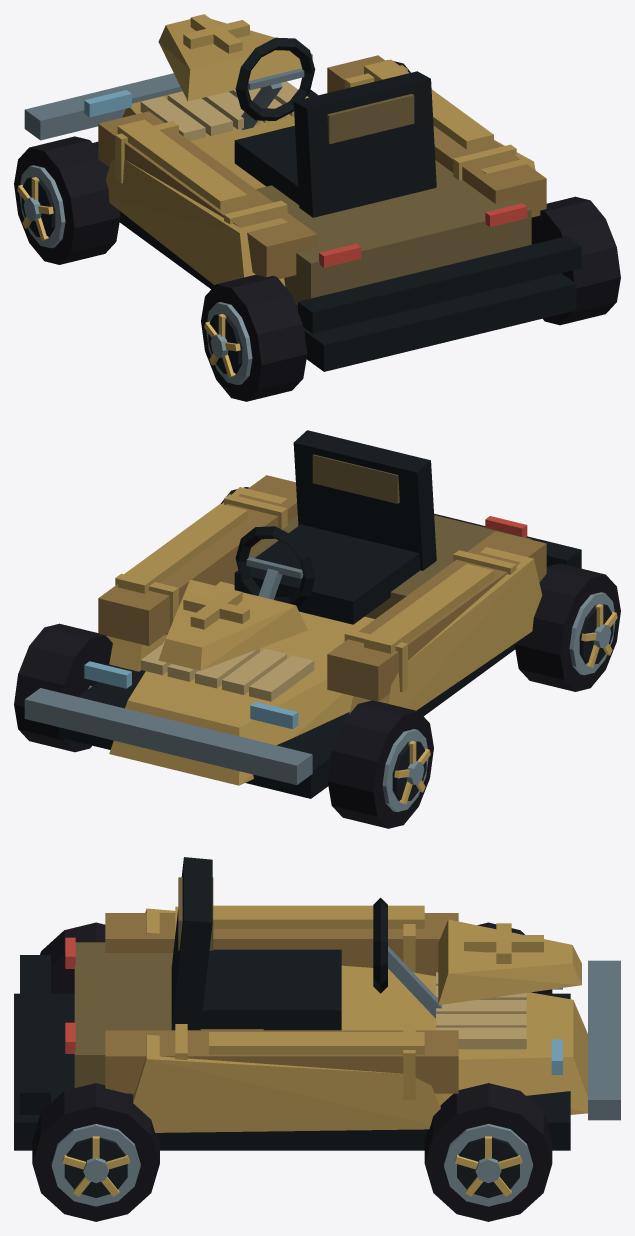
File: kart.glb
3 renders of one model, top to bottom at view 1: azimuth 30°, elevation 25°; view 2: azimuth 150°, elevation 25°; view 3: azimuth 270°, elevation 25°, orthographic. The views are drawn at different scales.
Visible parts, largest first — view 1: chassis, wheel-rear-left, wheel-front-left, wheel-rear-right; view 2: chassis, wheel-front-left, wheel-rear-left, wheel-front-right; view 3: chassis, wheel-front-right, wheel-rear-right, wheel-rear-left.
Boxes of the visible parts, x1=… form: chassis: x1=24, y1=14, x2=581, y2=371; wheel-rear-left: x1=201, y1=274, x2=307, y2=401; wheel-front-left: x1=14, y1=136, x2=120, y2=264; wheel-rear-right: x1=531, y1=196, x2=620, y2=325; chassis: x1=24, y1=430, x2=581, y2=798; wheel-front-left: x1=327, y1=700, x2=433, y2=828; wheel-rear-left: x1=514, y1=563, x2=620, y2=691; wheel-front-right: x1=14, y1=623, x2=118, y2=752; chassis: x1=14, y1=857, x2=620, y2=1150; wheel-front-right: x1=424, y1=1083, x2=552, y2=1221; wheel-rear-right: x1=32, y1=1083, x2=159, y2=1221; wheel-rear-left: x1=40, y1=922, x2=105, y2=993.
Size of the model in its own units: 2.29 by 1.3 by 2.96.
